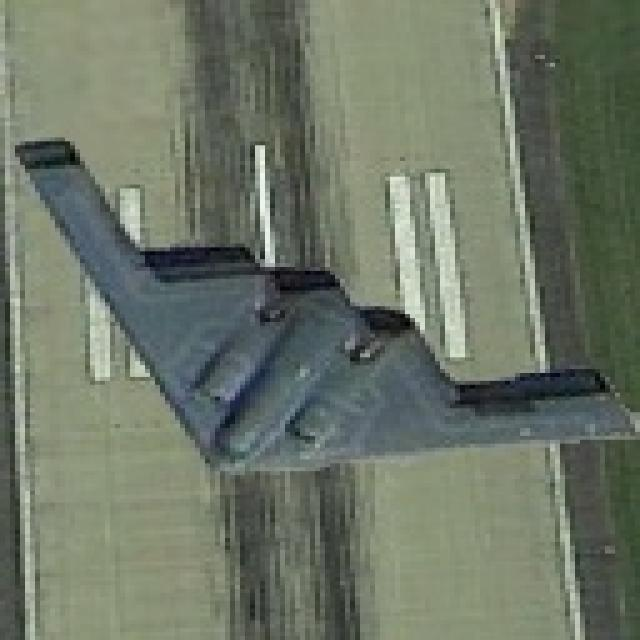B-2_TopDown: (10, 130, 635, 479)
